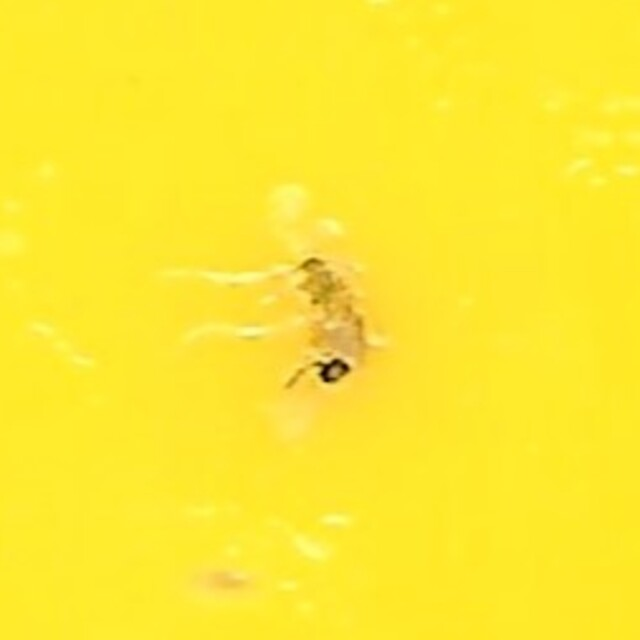Nematocera: (253, 230, 387, 410)
